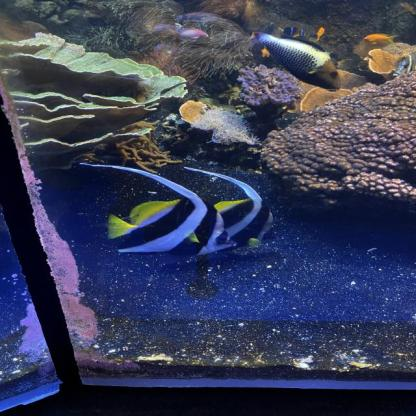fish: (107, 200, 238, 257), (248, 31, 342, 92), (183, 199, 275, 249), (393, 51, 416, 74), (171, 27, 208, 40), (362, 33, 398, 44)
